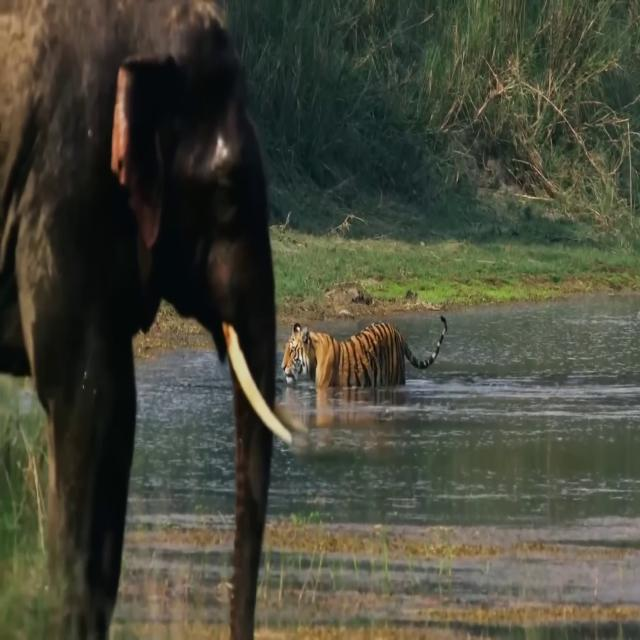tiger: (282, 314, 448, 392)
